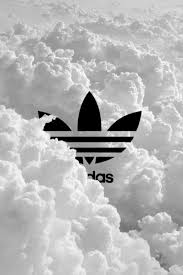adidas: (34, 91, 143, 186)
